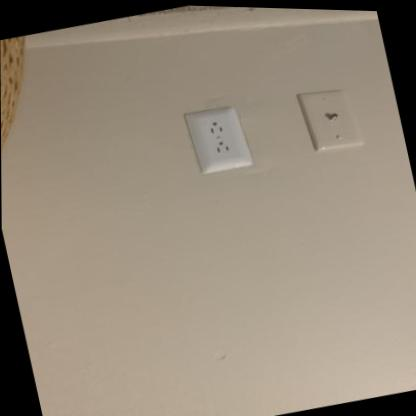OUTLET: (184, 102, 252, 177)
